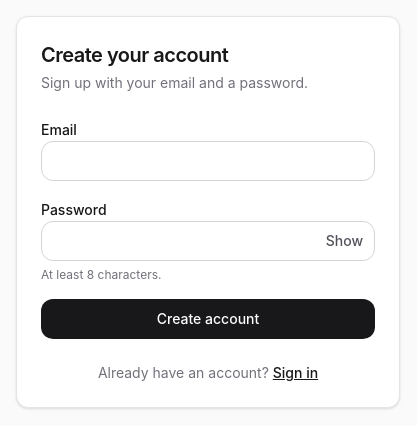
Test: SignUpPage › asks the visitor to check their inbox when no session comes back
The image size is (417, 426).
Type "ada@example.com" into the field labelled "Email". click: (208, 161)
box: [41, 141, 375, 181]
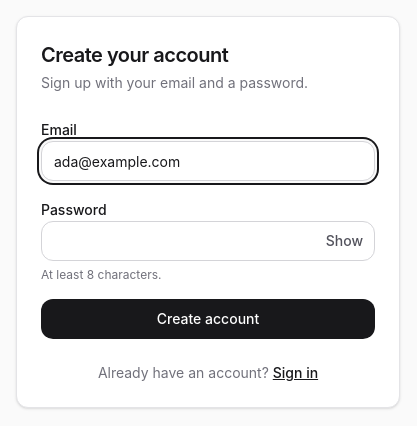
Type "long-enough-pw" into the password field labelled "Password". click: (208, 241)
box: [41, 221, 375, 261]
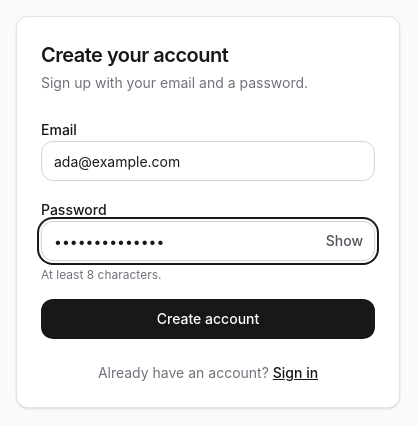
Click the button "Create account". click: (208, 319)
box: [41, 299, 375, 339]
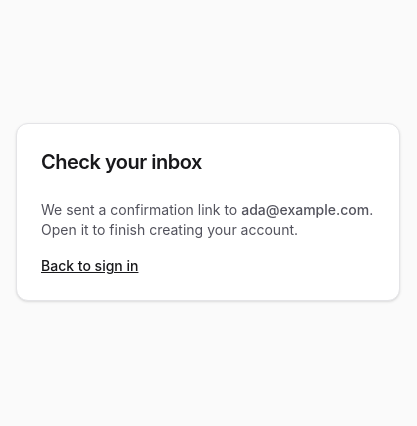
Expected: the heading "Check your inbox" is shown, [41, 150, 202, 174]
Expected: the message shows "We sent a confirmation link to ada@example.com.", [41, 200, 375, 276]
